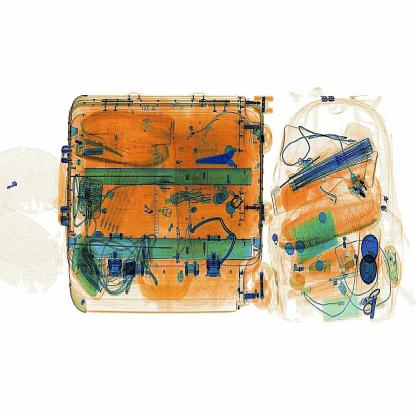gun: (192, 132, 262, 182)
